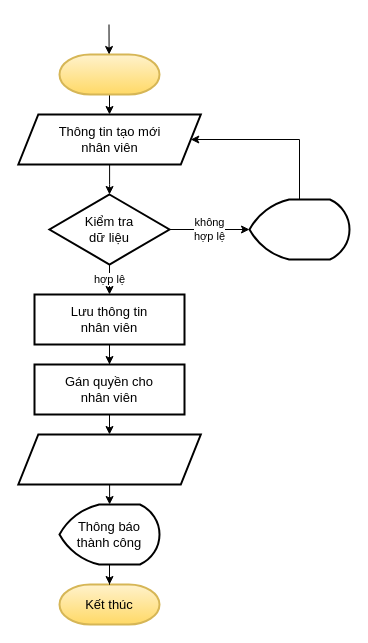
Some shapes in this 368 by 643 pixel diagram are drawn without their labels. Here are the shapes that lost their labels. From the top down, the centre of each, then its label:
At pixel 109 74: "Bắt đầu".
At pixel 299 229: "Thông báo lỗi".
At pixel 109 459: "Thông tin nhân viên vừa tạo".
